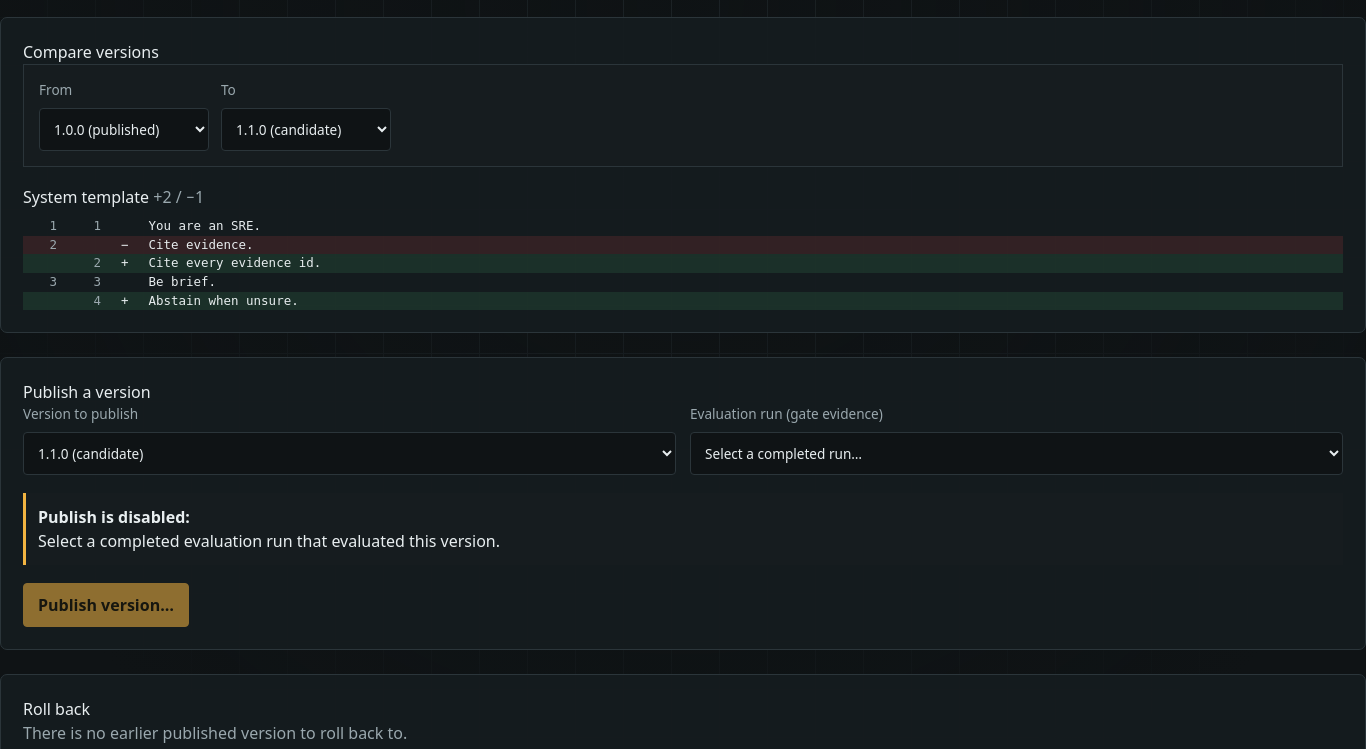
Test: prompts › disables publish on a failed hard gate, explains why, and never offers an override
The image size is (1366, 749).
(page scrolled)
Step 1. Select "Oct 31, 2026, 10:00 AM · candidate · 9/10 passed · dddddddd" in the dropdown labelled "Evaluation run (gate evidence)" → x=1016, y=453, box [690, 432, 1343, 475]
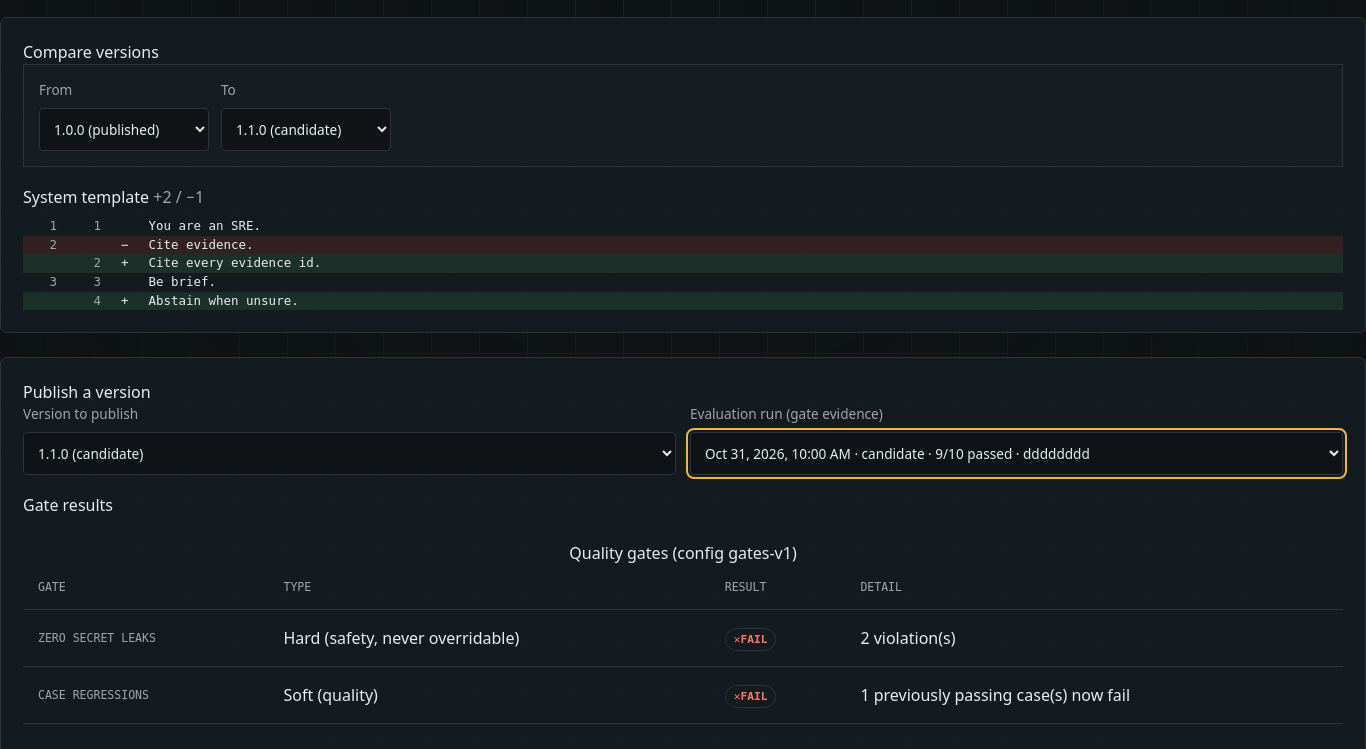
Expected: the table "Quality gates" shows "Hard (safety, never overridable)", [284, 627, 519, 649]
